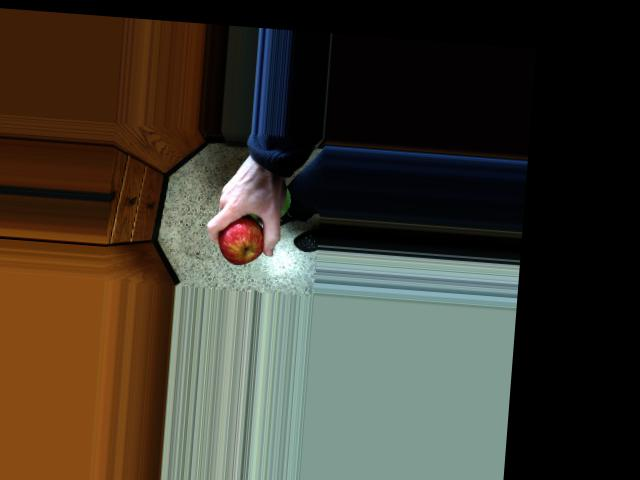apple: (213, 207, 274, 268)
